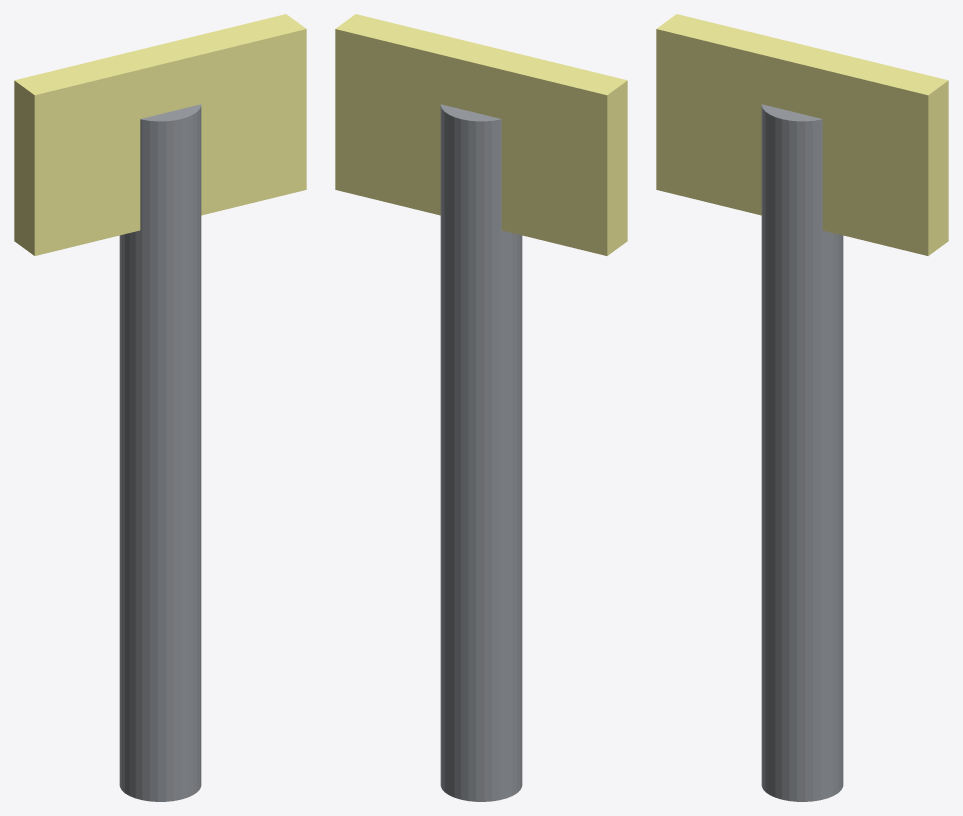
The model's file is pickup.sign.v1.glb.
3 renders of one model, left to right at view 1: azimuth 30°, elevation 25°; view 2: azimuth 150°, elevation 25°; view 3: azimuth 330°, elevation 25°, orthographic.
Visible parts, largest first — view 1: pickup.sign.v1_pole, pickup.sign.v1_plate; view 2: pickup.sign.v1_pole, pickup.sign.v1_plate; view 3: pickup.sign.v1_pole, pickup.sign.v1_plate.
Boxes of the visible parts, left/top/right/bottom form: pickup.sign.v1_pole: left=119, top=104, right=201, bottom=801; pickup.sign.v1_plate: left=14, top=14, right=306, bottom=255; pickup.sign.v1_pole: left=440, top=104, right=522, bottom=801; pickup.sign.v1_plate: left=335, top=14, right=627, bottom=255; pickup.sign.v1_pole: left=761, top=104, right=843, bottom=801; pickup.sign.v1_plate: left=656, top=14, right=948, bottom=255.
Bounding box in the file's own units: 0.23 × 0.59 × 0.06.
